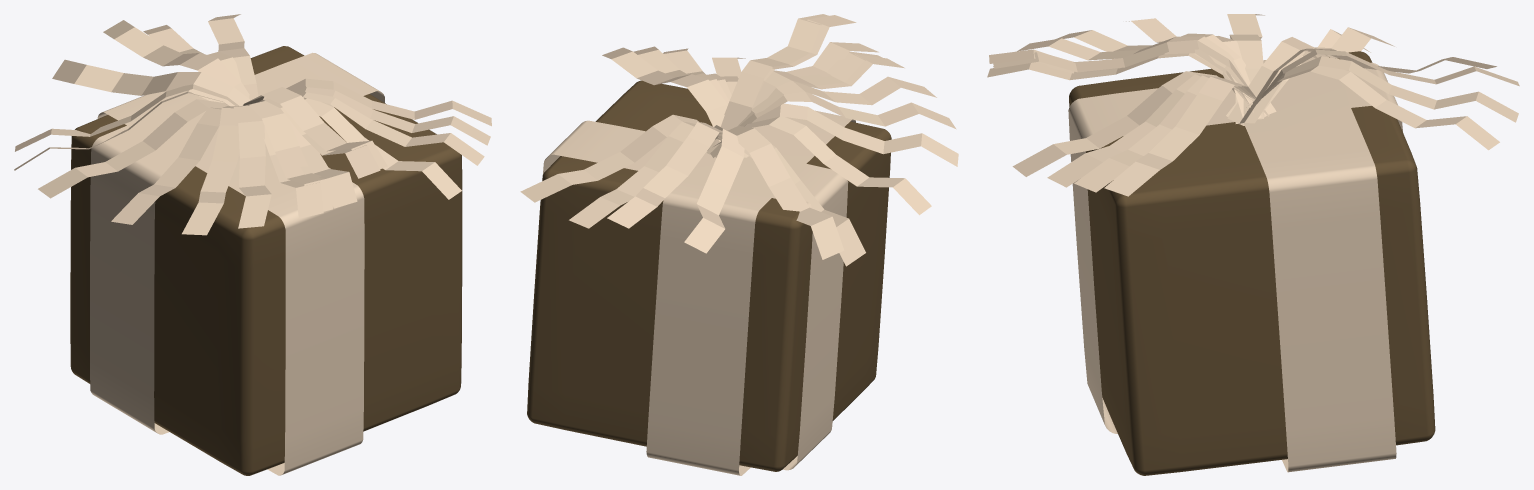
File: regalo4.fbx
3 views of the same model, side by side, from view 1: azimuth 30°, elevation 25°; view 2: azimuth 150°, elevation 25°; view 3: azimuth 270°, elevation 25° (orthographic). The views are drawn at different scales.
Parts seen in each view (by area): view 1: pPlane76, pCube13; view 2: pPlane76, pCube13; view 3: pPlane76, pCube13.
Boxes of the visible parts, x1,y1,x2,y2 form: pPlane76: (14,14,491,475); pCube13: (70,46,462,475); pPlane76: (520,14,958,475); pCube13: (527,80,891,471); pPlane76: (987,14,1519,472); pCube13: (1069,51,1435,475).
Size of the model in its own units: 4.55 by 3.82 by 4.98.
